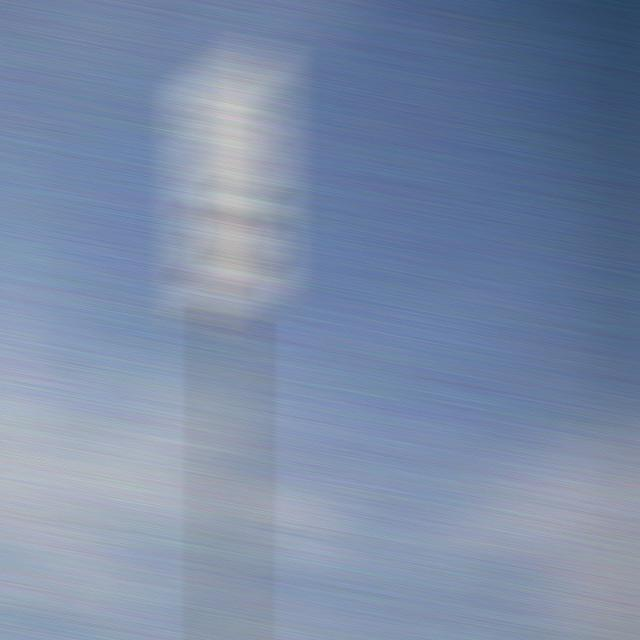speedLimit35: (179, 39, 284, 348)
